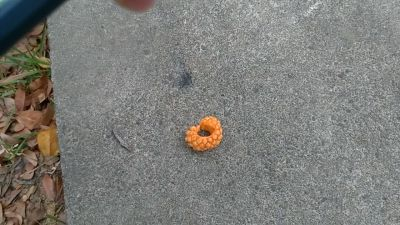eggs: (182, 115, 224, 153)
